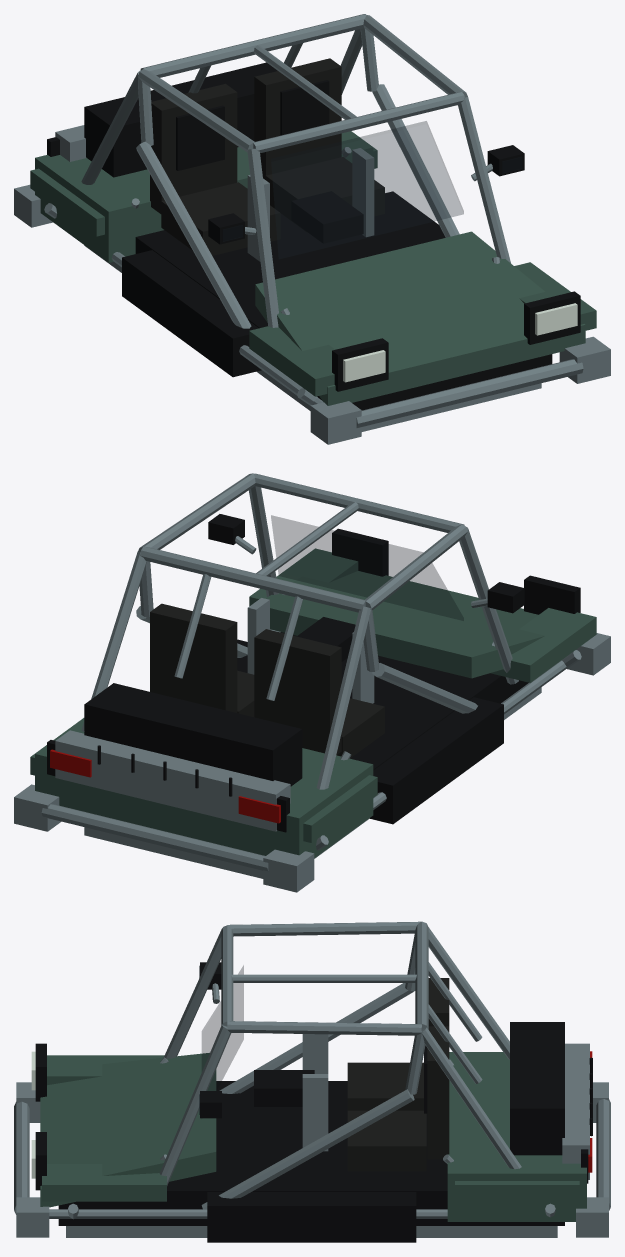
The model's file is AarisBuggy.obj.
3 renders of one model, top to bottom at view 1: azimuth 30°, elevation 25°; view 2: azimuth 150°, elevation 25°; view 3: azimuth 270°, elevation 25°, orthographic. The views are drawn at different scales.
Parts seen in each view (by area): view 1: AarisBuggy; view 2: AarisBuggy; view 3: AarisBuggy.
Part boxes in pixels (bbox=[...]): AarisBuggy: bbox=[14, 14, 610, 444]; AarisBuggy: bbox=[14, 473, 610, 892]; AarisBuggy: bbox=[14, 921, 610, 1242].
Size of the model in its own units: 1.81 by 1.32 by 3.25.
